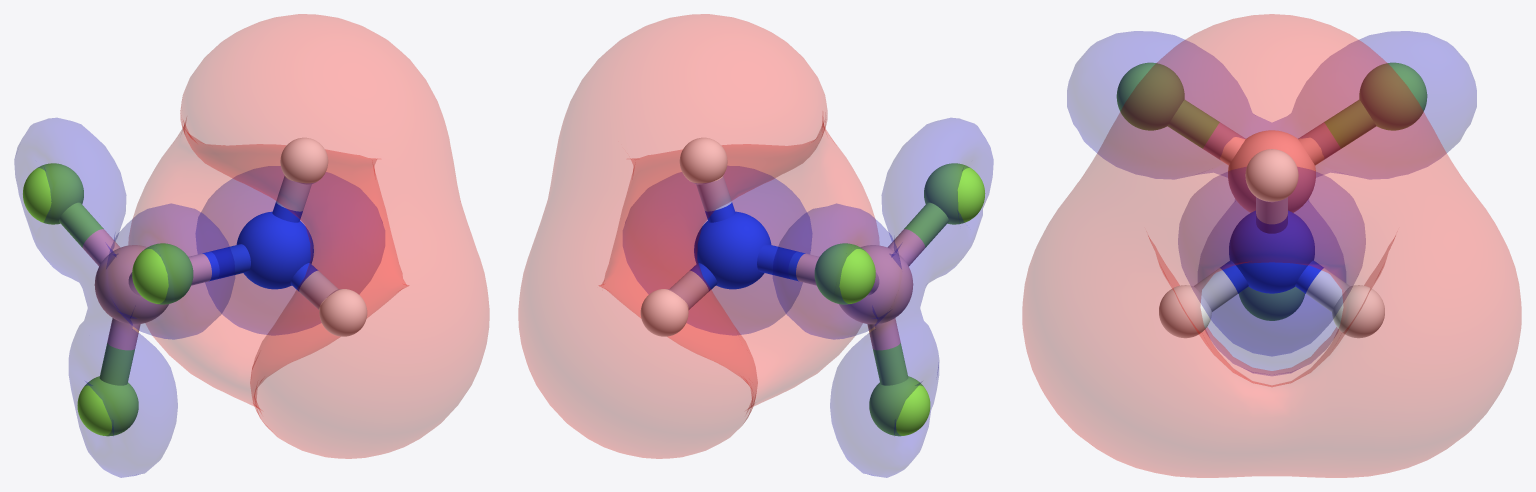
The picture shows the model from 3 angles, left to right: view 1: azimuth 30°, elevation 25°; view 2: azimuth 150°, elevation 25°; view 3: azimuth 270°, elevation 25°; orthographic projection. The views are drawn at different scales.
Parts seen in each view (by area): view 1: surface (×2), atoms, bonds; view 2: surface (×2), atoms, bonds; view 3: surface (×2), atoms, bonds.
Part boxes in pixels (x1,y1,x2,y2): surface (×2): [14, 14, 489, 477]; atoms: [23, 137, 367, 436]; bonds: [59, 175, 337, 385]; surface (×2): [518, 14, 993, 477]; atoms: [640, 137, 985, 436]; bonds: [669, 175, 948, 385]; surface (×2): [1022, 14, 1521, 477]; atoms: [1116, 62, 1427, 338]; bonds: [1167, 99, 1376, 311].
Size of the model in its own units: 4.16 by 4.62 by 4.7.
